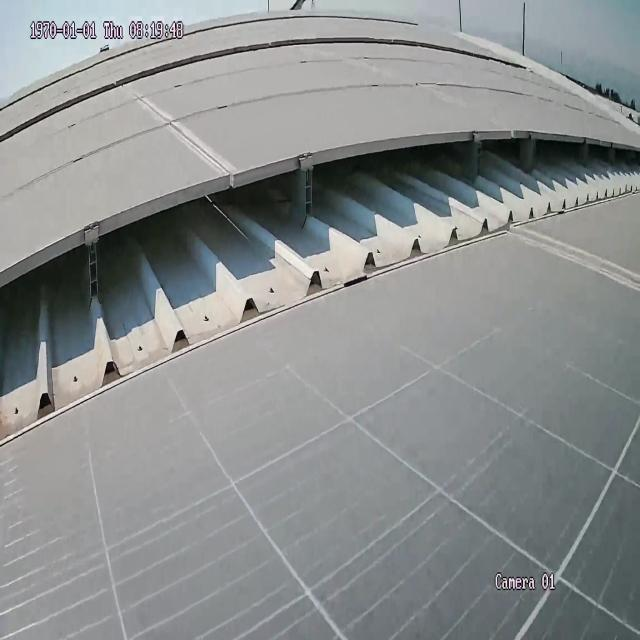interior panel: (126, 76, 242, 180), (501, 223, 640, 298)
outher panel: (0, 126, 640, 444), (0, 30, 534, 146), (1, 12, 425, 108)
